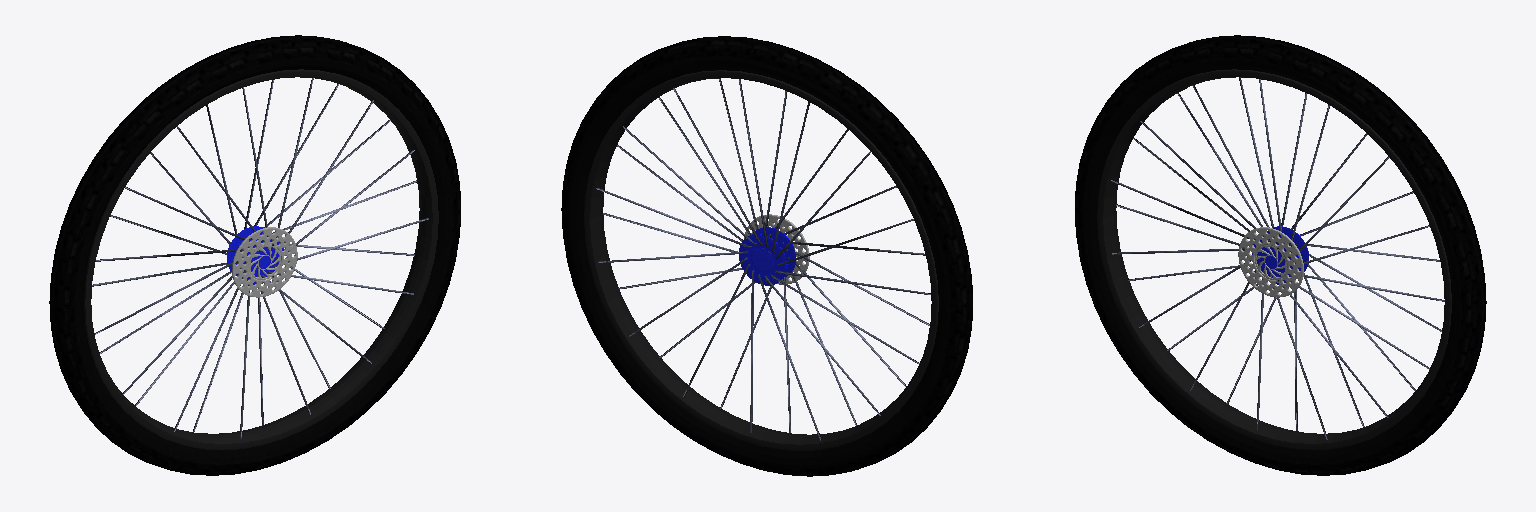
3 renders of one model, left to right at view 1: azimuth 30°, elevation 25°; view 2: azimuth 150°, elevation 25°; view 3: azimuth 330°, elevation 25°, orthographic.
Visible parts, largest first — view 1: Wheel_back; view 2: Wheel_back; view 3: Wheel_back.
Part boxes in pixels (left/top/right/bottom): Wheel_back: left=49, top=35, right=460, bottom=475; Wheel_back: left=561, top=36, right=972, bottom=476; Wheel_back: left=1075, top=35, right=1486, bottom=475.
Bounding box in the file's own units: 2.13 × 2.13 × 0.1694.
1 materials, 1 textured.